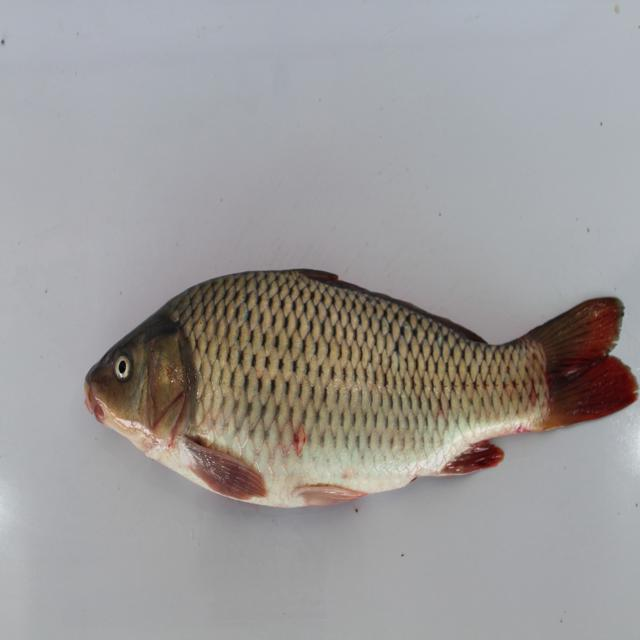CommonCarp: (73, 243, 640, 533)
